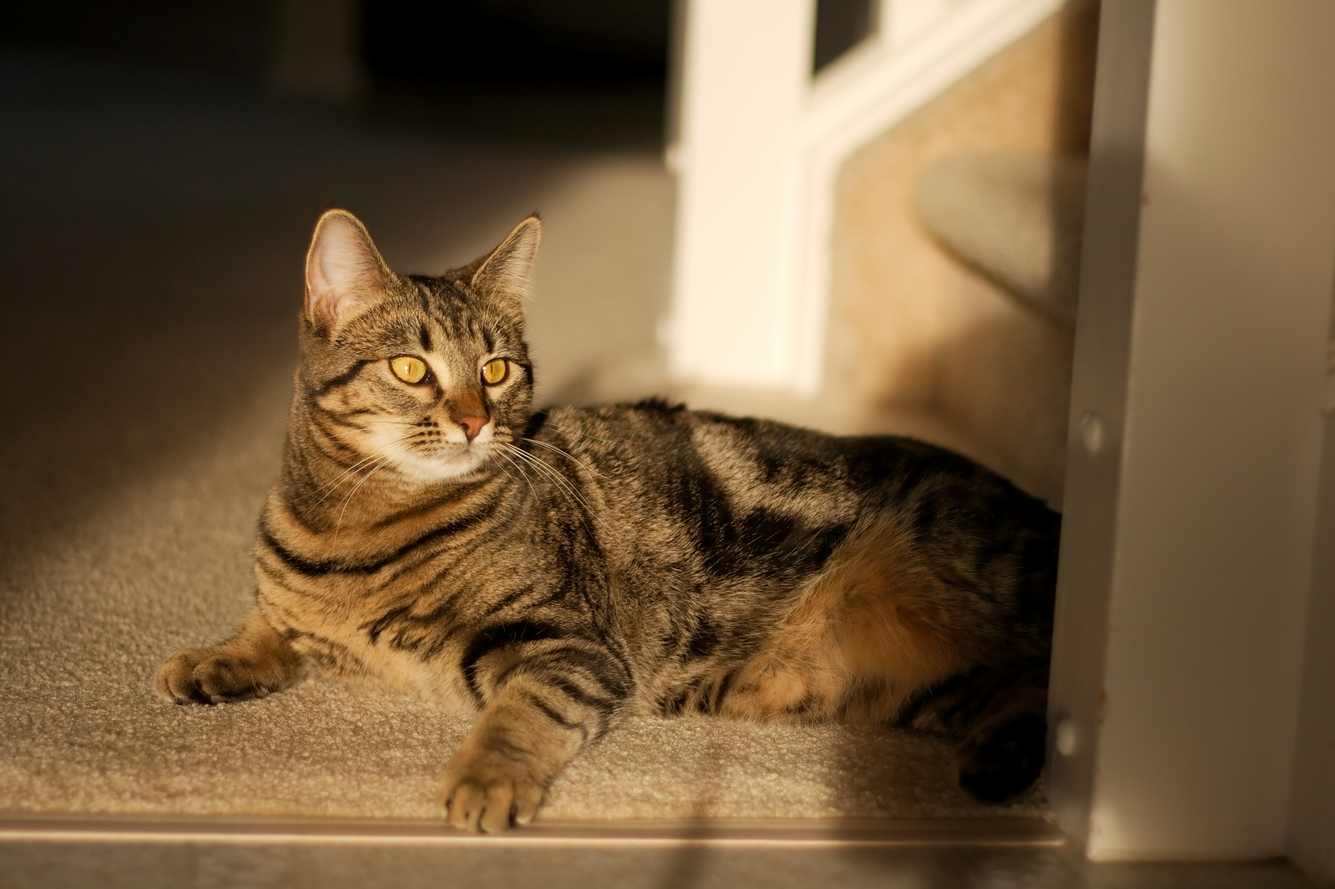cat: (138, 203, 1061, 836)
